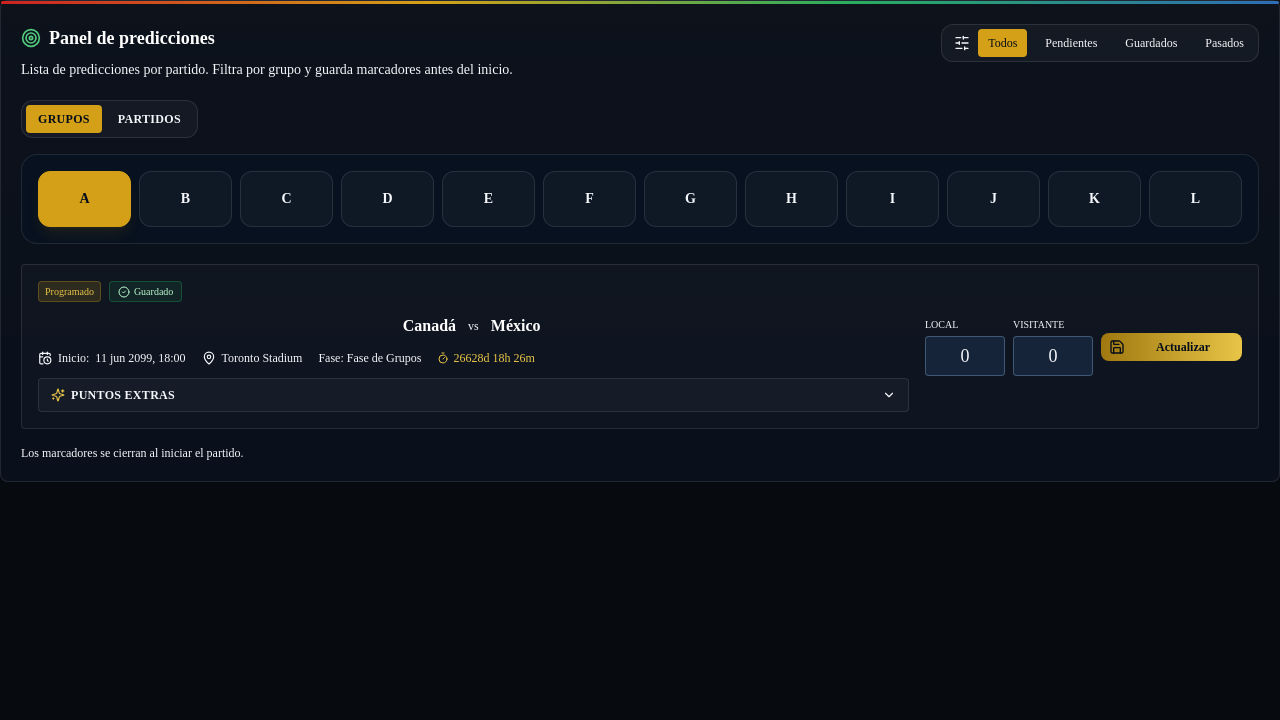
Test: PredictionPanel › auto-fills every extra as a fixed value for a saved 0-0 prediction
Expected: the text "Canadá" is shown, x1=403 y1=317 x2=456 y2=334
Click the button "Puntos extras": (123, 395) x1=39 y1=379 x2=908 y2=411
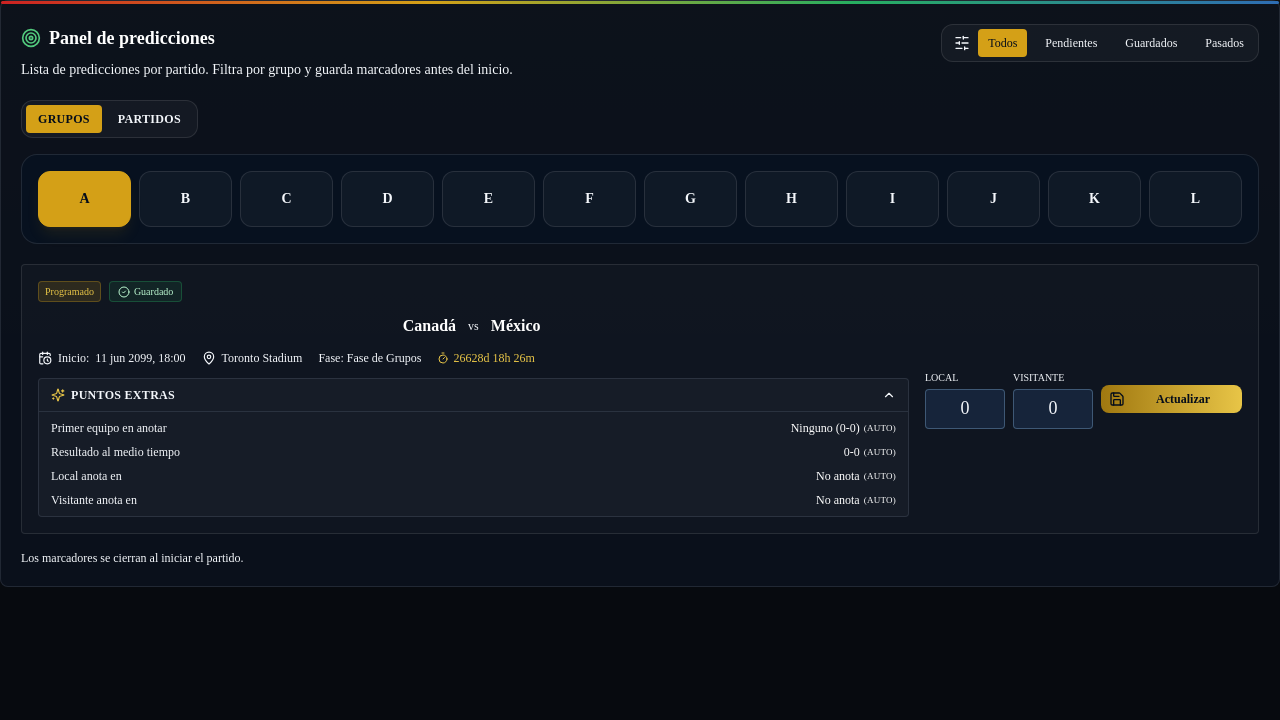
Expected: the number of number fields is 2, x1=925 y1=388 x2=1005 y2=428; x1=1013 y1=388 x2=1093 y2=428
Expected: the text "(auto)" is shown 4 times, x1=864 y1=420 x2=896 y2=436; x1=864 y1=444 x2=896 y2=460; x1=864 y1=468 x2=896 y2=484; x1=864 y1=492 x2=896 y2=508
